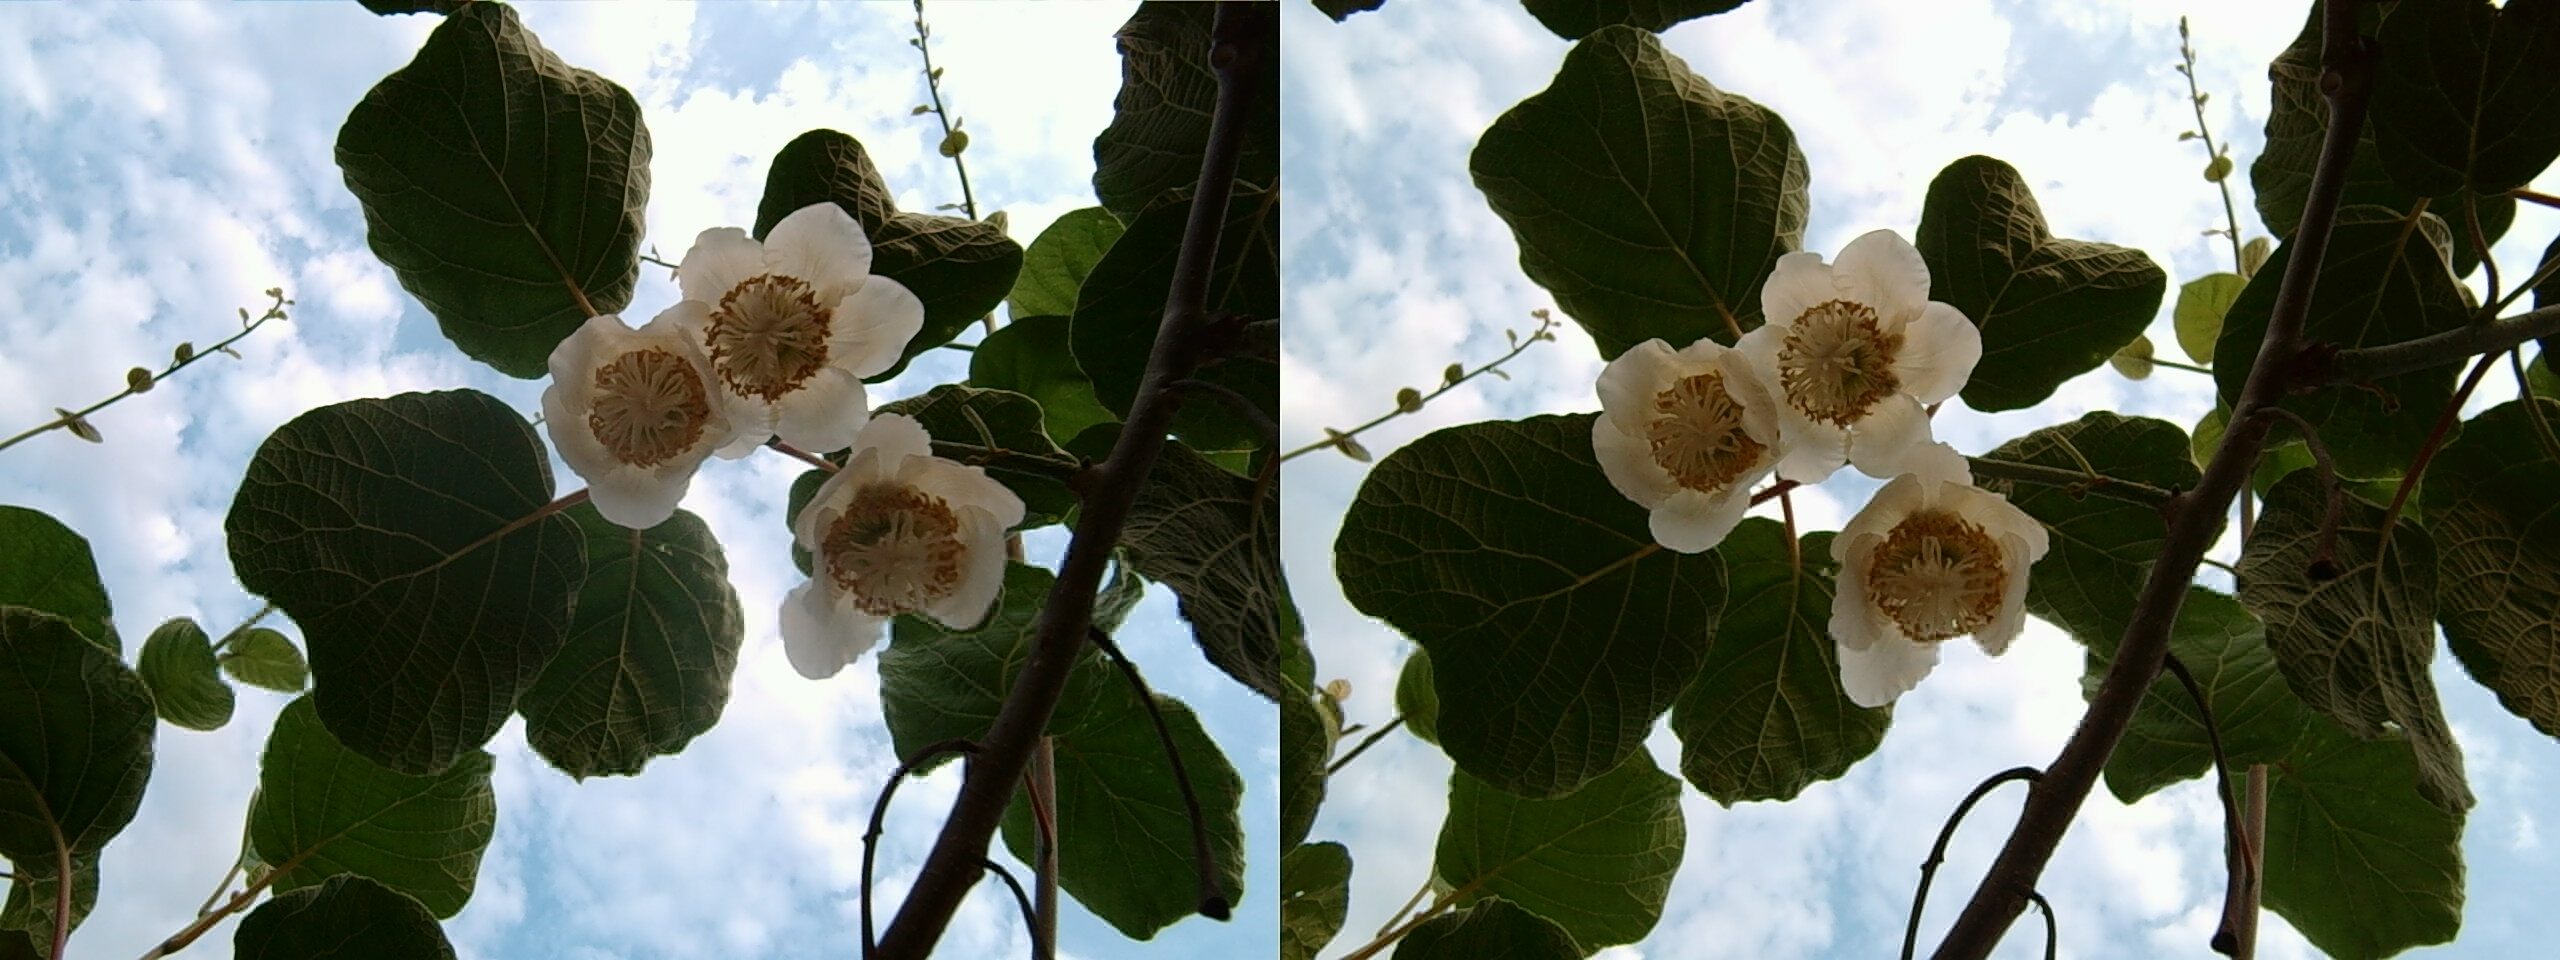flower: (651, 194, 895, 460), (1726, 224, 1966, 478), (774, 421, 1009, 668), (1820, 459, 2044, 686), (536, 296, 740, 518), (1587, 322, 1789, 545)
